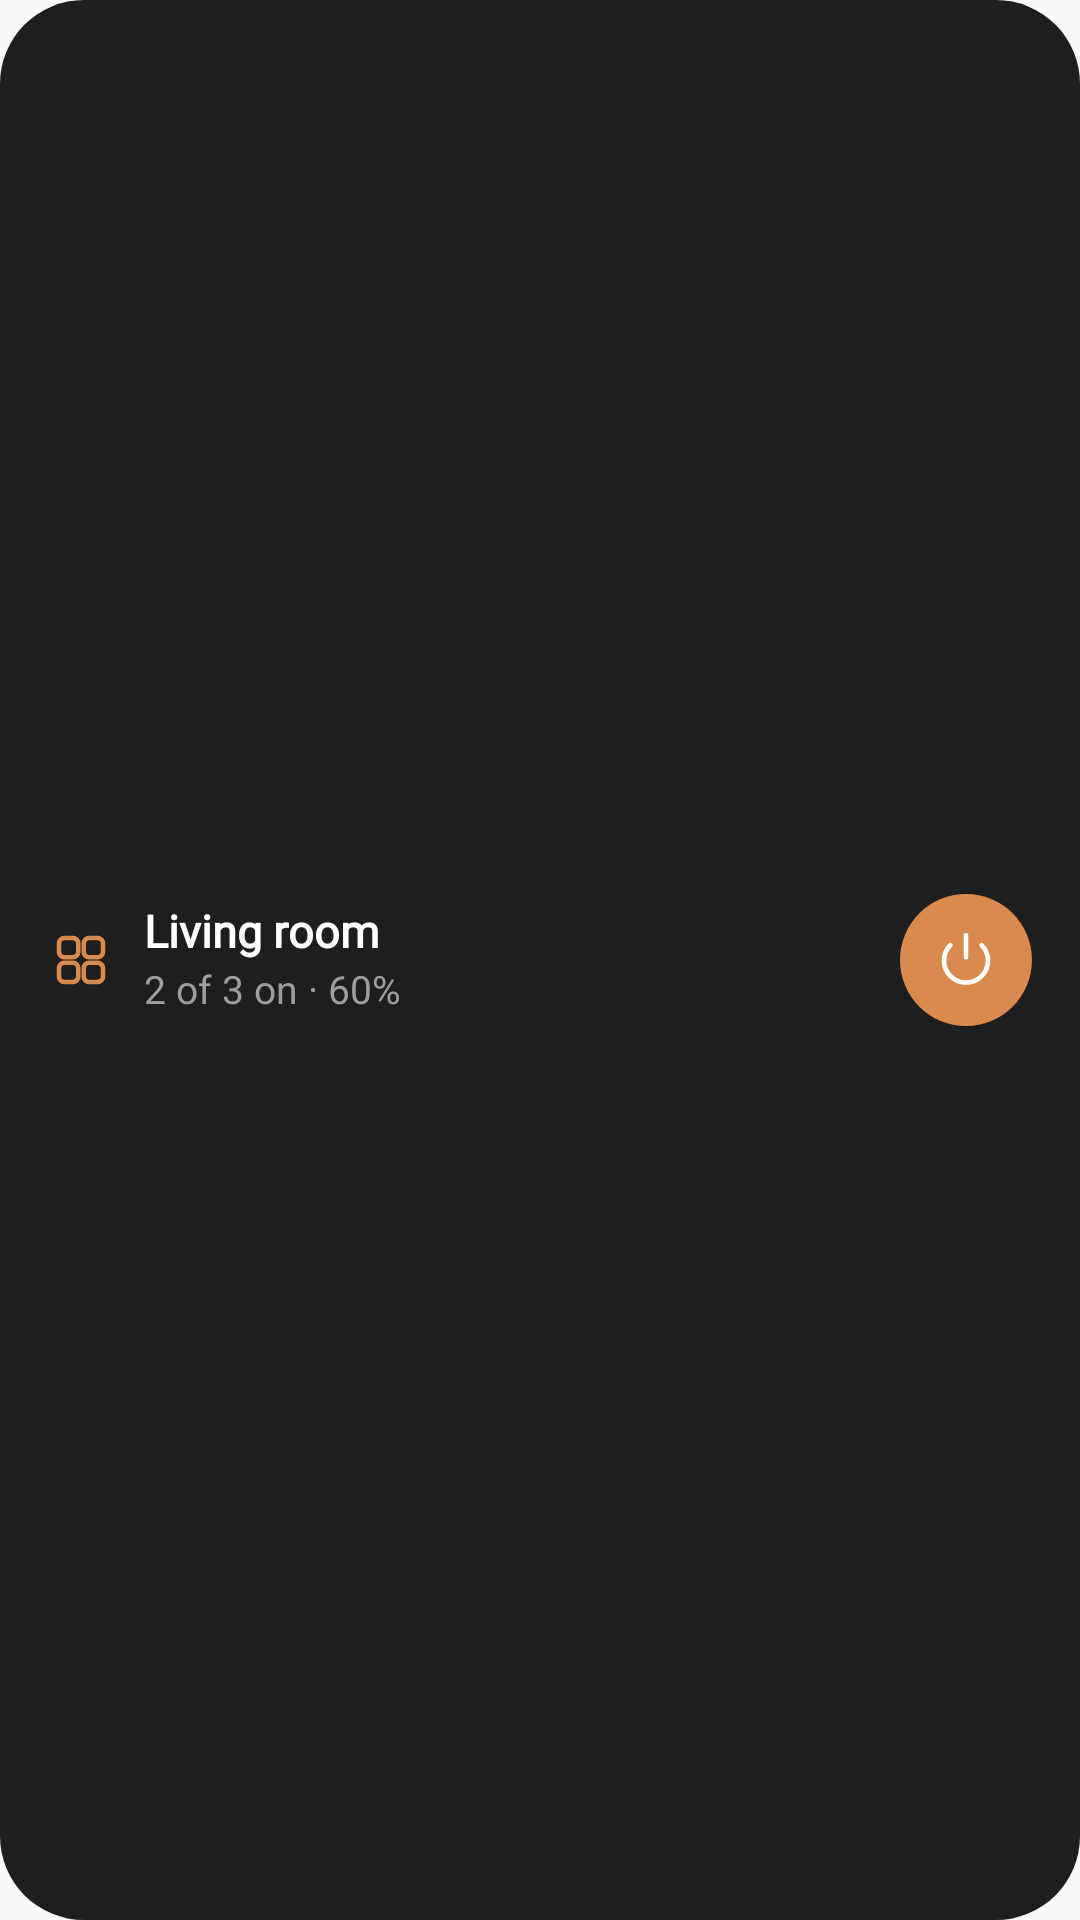

Icon bounding boxes for this 1080px×1920px phone screenshot, format Rect(x1, y1, x2, y2):
wi grid: Rect(56, 935, 106, 985)
